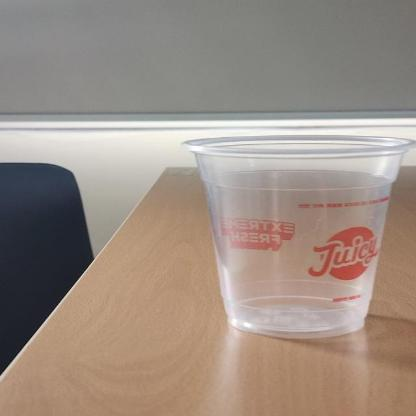Plastic Cup: (178, 132, 416, 338)
